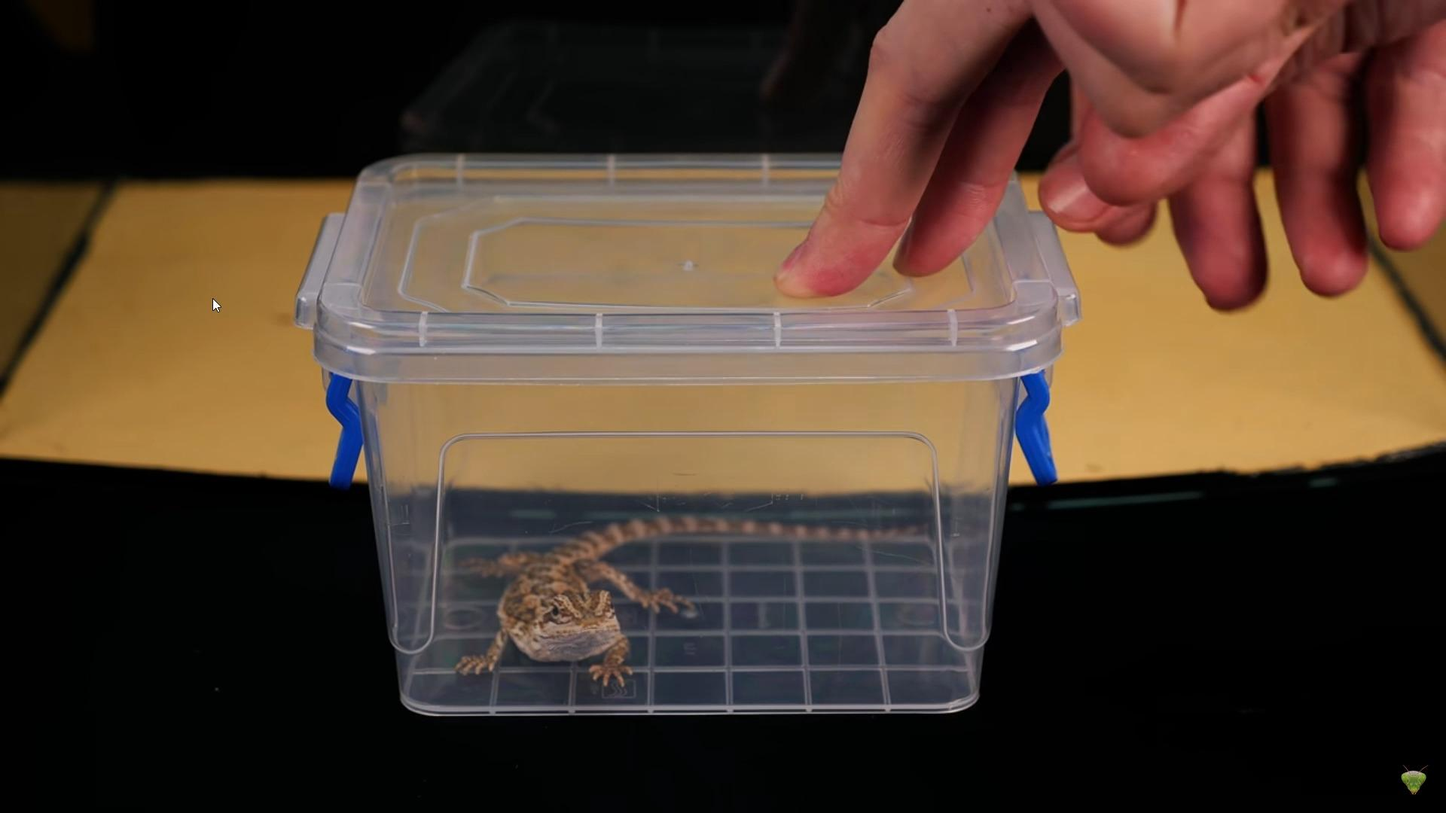lizard: (449, 508, 930, 693)
